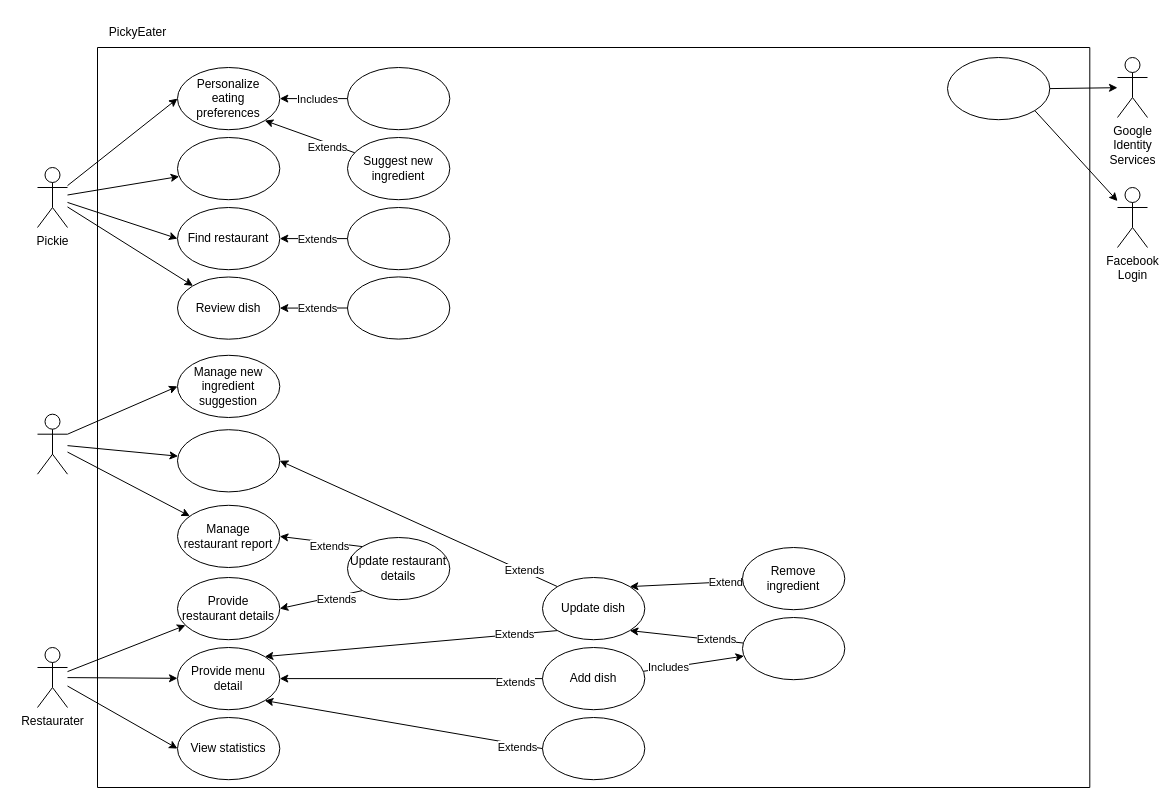
Image size: 1176x805. Some labels were removed from this diagram. The shapes that lost their labels are listed below. From the top down, each one's centre as x and y in pixels, then its label:
At [398,98]: "Sign in".
At [998,88]: "Log in".
At [228,168]: "Report restaurant".
At [398,238]: "Create Pickies group".
At [398,307]: "Report dish".
At [52,443]: "Administrator".
At [228,460]: "Manage dish report".
At [793,648]: "Add ingredient".
At [593,748]: "Remove dish".
